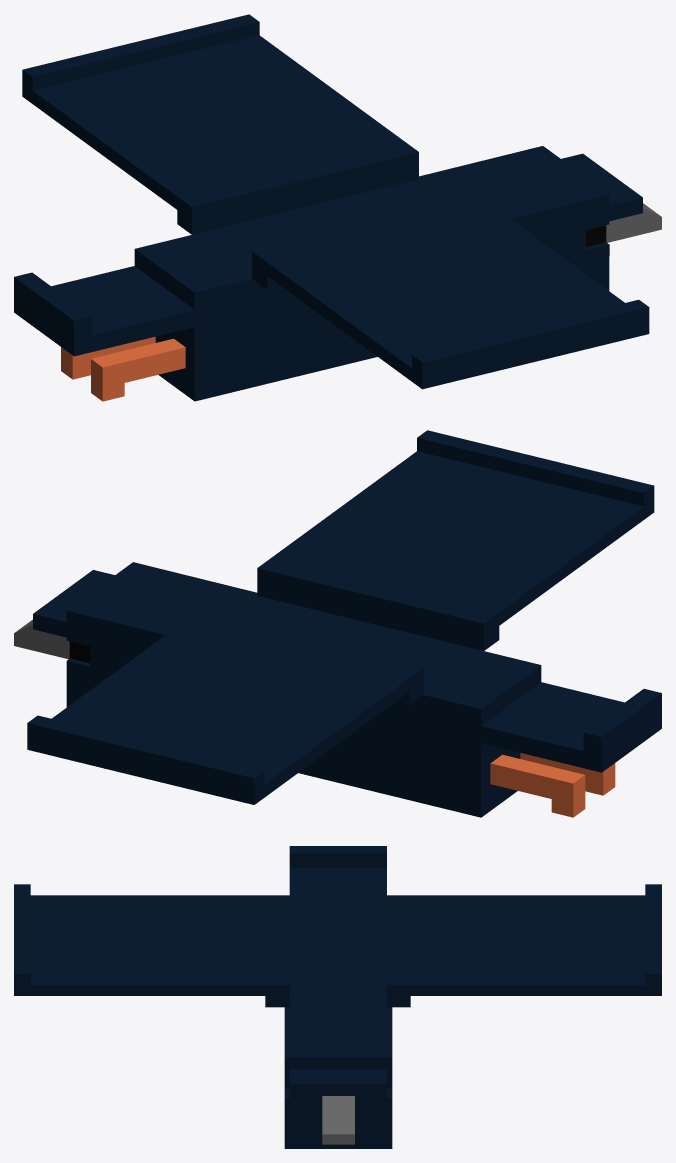
The model's file is fbx_crow.fbx.
3 renders of one model, top to bottom at view 1: azimuth 30°, elevation 25°; view 2: azimuth 150°, elevation 25°; view 3: azimuth 270°, elevation 25°, orthographic. The views are drawn at different scales.
Visible parts, largest first — view 1: sm_crow; view 2: sm_crow; view 3: sm_crow.
Part boxes in pixels (x1,y1,x2,y2): sm_crow: (14,14,661,401); sm_crow: (14,430,661,817); sm_crow: (14,846,661,1148).
Size of the model in its own units: 299 by 72.22 by 341.
